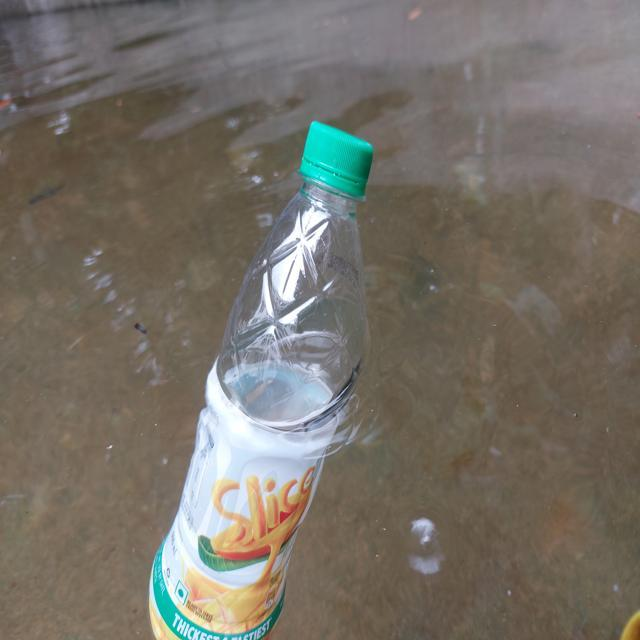waterbottle: (154, 101, 375, 640)
